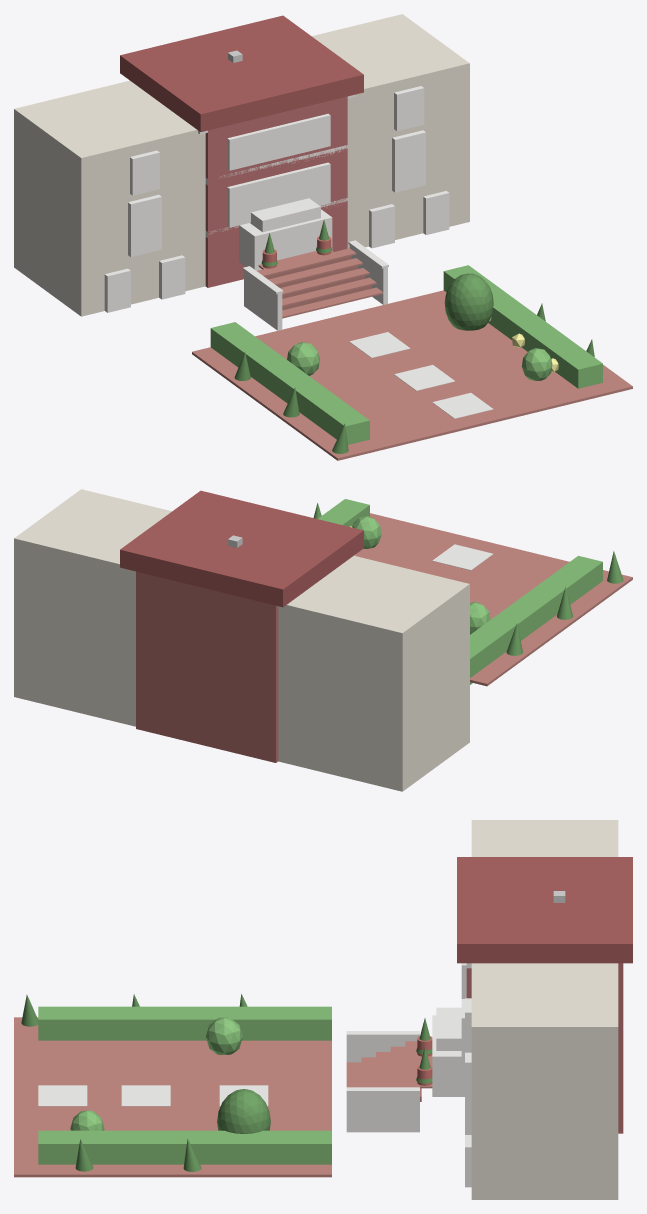
File: central_mess.glb
The picture shows the model from 3 angles, top to bottom: view 1: azimuth 30°, elevation 25°; view 2: azimuth 150°, elevation 25°; view 3: azimuth 270°, elevation 25°; orthographic projection. The views are drawn at different scales.
Visible parts, largest first — view 1: Left_Wing, Pathway, Right_Wing, Roof, Hedge, Hedge.001, Central_Upper_Maroon, Window_Frame.008, Window_Frame.009, Central_Middle_Maroon, Entrance_Surround, Central_Lower_Maroon (+22 smaller); view 2: Left_Wing, Right_Wing, Roof, Pathway, Central_Middle_Maroon, Central_Lower_Maroon, Central_Upper_Maroon, Hedge, Pattern_3, Hedge.001, Icosphere.001, Icosphere; view 3: Right_Wing, Pathway, Roof, Hedge.001, Hedge, Left_Wing, Stair_Right_Wall, Cone_Bush, Entrance_Surround, Entrance_Header, Stair_Left_Wall, Icosphere (+6 smaller).
Boxes of the visible parts, box(x1,y1,x2,y2) form: Left_Wing: box(14, 80, 205, 316); Pathway: box(192, 290, 632, 460); Right_Wing: box(312, 14, 469, 248); Roof: box(120, 15, 363, 131); Hedge: box(210, 322, 369, 444); Hedge.001: box(443, 265, 602, 388); Central_Upper_Maroon: box(205, 96, 347, 181); Window_Frame.008: box(227, 162, 330, 227); Window_Frame.009: box(227, 113, 330, 170); Central_Middle_Maroon: box(205, 148, 347, 234); Entrance_Surround: box(239, 209, 332, 270); Central_Lower_Maroon: box(205, 201, 347, 287); Left_Wing: box(278, 555, 469, 791); Right_Wing: box(14, 489, 171, 726); Roof: box(120, 490, 363, 607); Pathway: box(355, 513, 632, 686); Central_Middle_Maroon: box(136, 623, 278, 709); Central_Lower_Maroon: box(136, 676, 278, 762); Central_Upper_Maroon: box(136, 571, 278, 657); Hedge: box(470, 555, 602, 684); Pattern_3: box(432, 544, 493, 570); Hedge.001: box(318, 499, 369, 526); Icosphere.001: box(352, 516, 381, 548); Icosphere: box(470, 602, 490, 634); Right_Wing: box(471, 963, 618, 1199); Pathway: box(14, 1017, 331, 1177); Roof: box(457, 857, 632, 963); Hedge.001: box(38, 1130, 331, 1164); Hedge: box(38, 1006, 331, 1040); Left_Wing: box(471, 820, 618, 856); Stair_Right_Wall: box(346, 1093, 419, 1132); Cone_Bush: box(217, 1089, 270, 1133); Entrance_Surround: box(432, 1015, 464, 1096); Entrance_Header: box(436, 1007, 461, 1050); Stair_Left_Wall: box(346, 1037, 417, 1062); Icosphere: box(206, 1017, 242, 1054).
Size of the model in its own units: 10 by 4.78 by 12.65.
